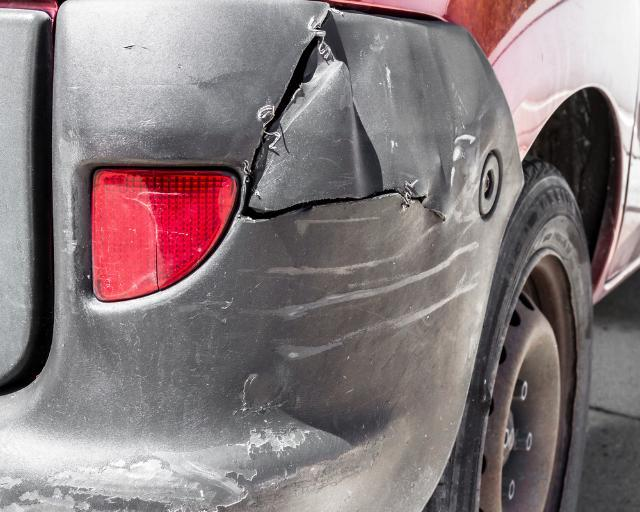crack: (240, 7, 448, 223), (155, 228, 160, 290)
dent: (352, 19, 463, 196)
scratch: (245, 135, 486, 369), (0, 423, 322, 512)
